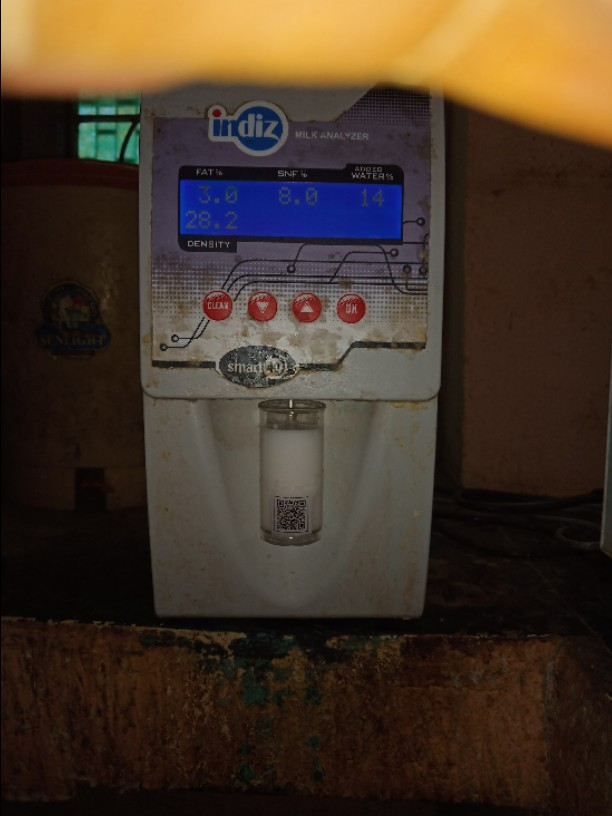lcd: (168, 176, 415, 248)
qr: (270, 492, 314, 537)
